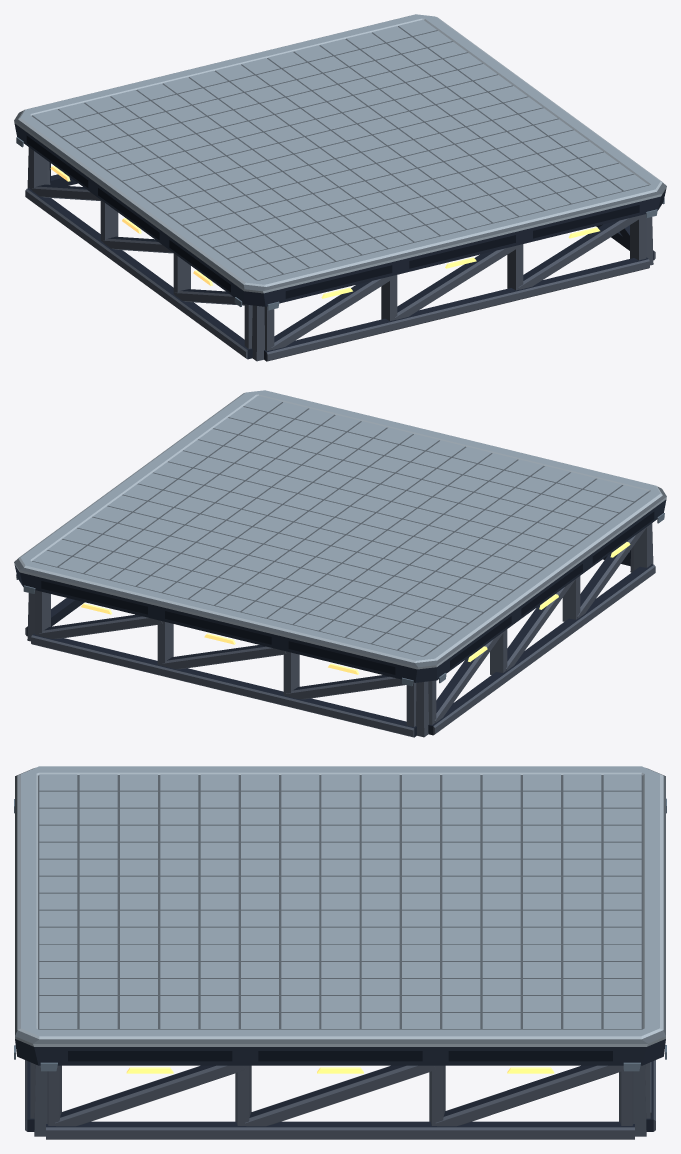
File: overhaul-platform-shipyard.glb
The picture shows the model from 3 angles, top to bottom: view 1: azimuth 30°, elevation 25°; view 2: azimuth 150°, elevation 25°; view 3: azimuth 270°, elevation 25°; orthographic projection. The views are drawn at different scales.
Parts seen in each view (by area): view 1: overhaul-platform-shipyard; view 2: overhaul-platform-shipyard; view 3: overhaul-platform-shipyard.
Part boxes in pixels (x1,y1,x2,y2): overhaul-platform-shipyard: (14,14,666,361); overhaul-platform-shipyard: (14,390,666,737); overhaul-platform-shipyard: (14,766,666,1139).
Bounding box in the file's own units: 21.06 × 3.78 × 21.06.
